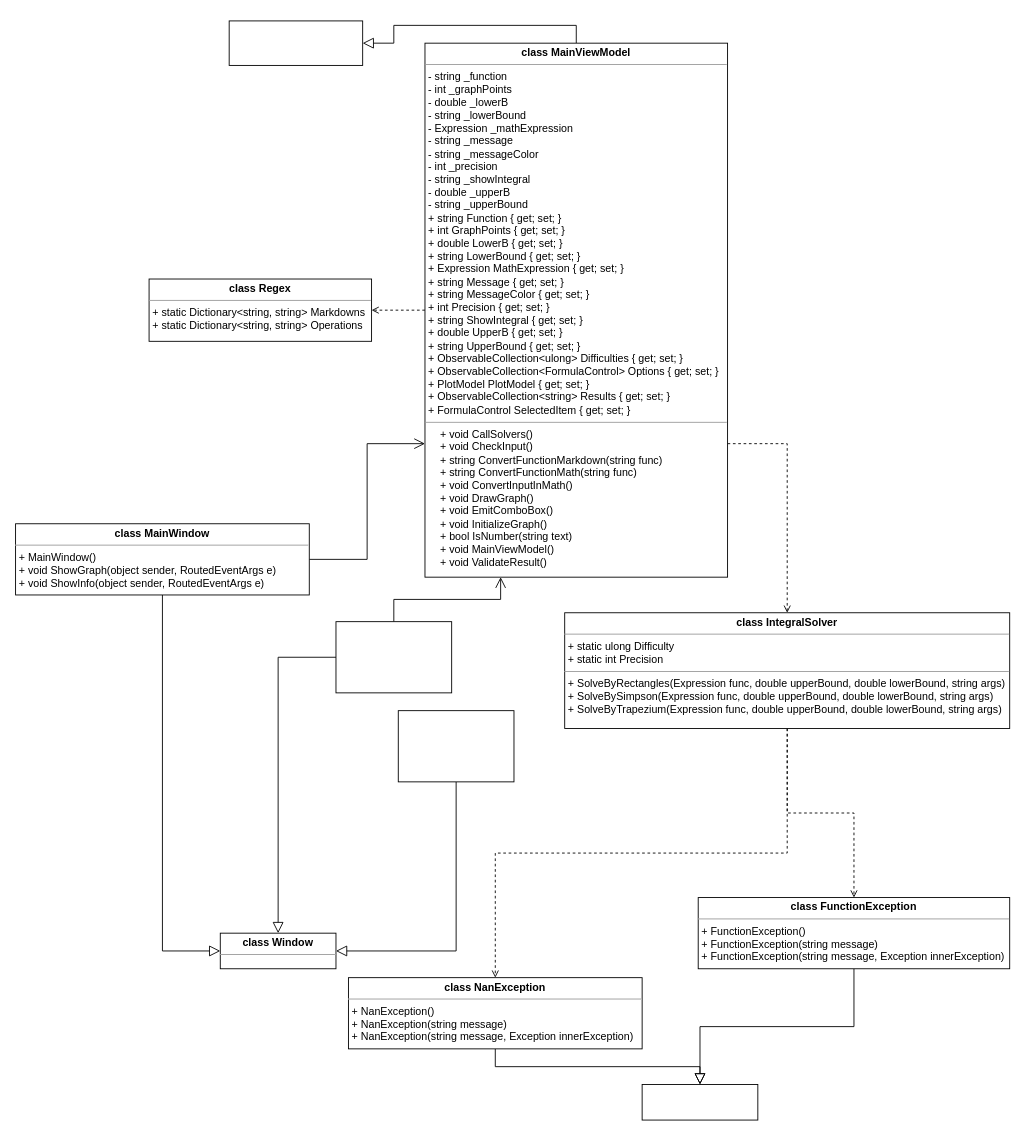
Some shapes in this 1025 by 1136 pixel diagram are drawn without their labels. The shapes that lost their labels are listed below. From the top down, each one's centre as x and y in pixels, then its label:
At pixel 295 42: "class ObservableObject".
At pixel 393 657: "class GraphWindow + GraphWindow()".
At pixel 455 746: "class InfoWindow + InfoWindow()".
At pixel 699 1102: "class Exception".
